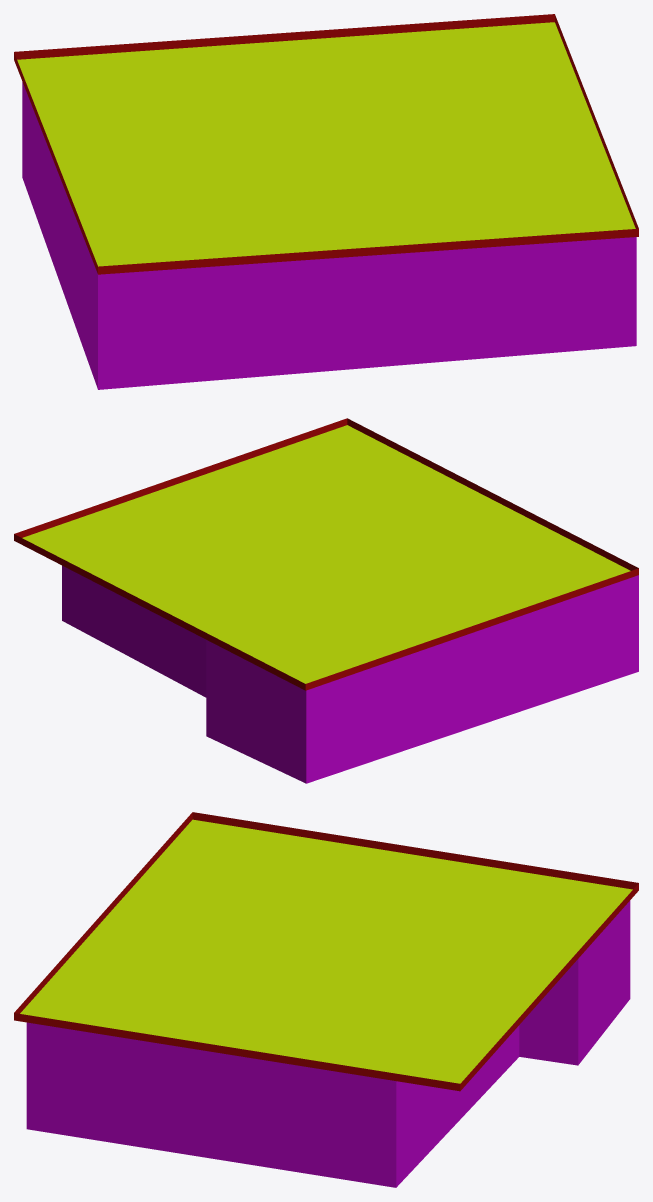
Rendered from bgj_123.glb.
3 renders of one model, top to bottom at view 1: azimuth 30°, elevation 25°; view 2: azimuth 150°, elevation 25°; view 3: azimuth 270°, elevation 25°, orthographic. The views are drawn at different scales.
Parts seen in each view (by area): view 1: bgj_123; view 2: bgj_123; view 3: bgj_123.
Boxes of the visible parts, x1,y1,x2,y2 form: bgj_123: [14, 14, 638, 389]; bgj_123: [14, 418, 638, 783]; bgj_123: [14, 812, 638, 1187].
Bounding box in the file's own units: 27.05 × 5.31 × 26.29.
